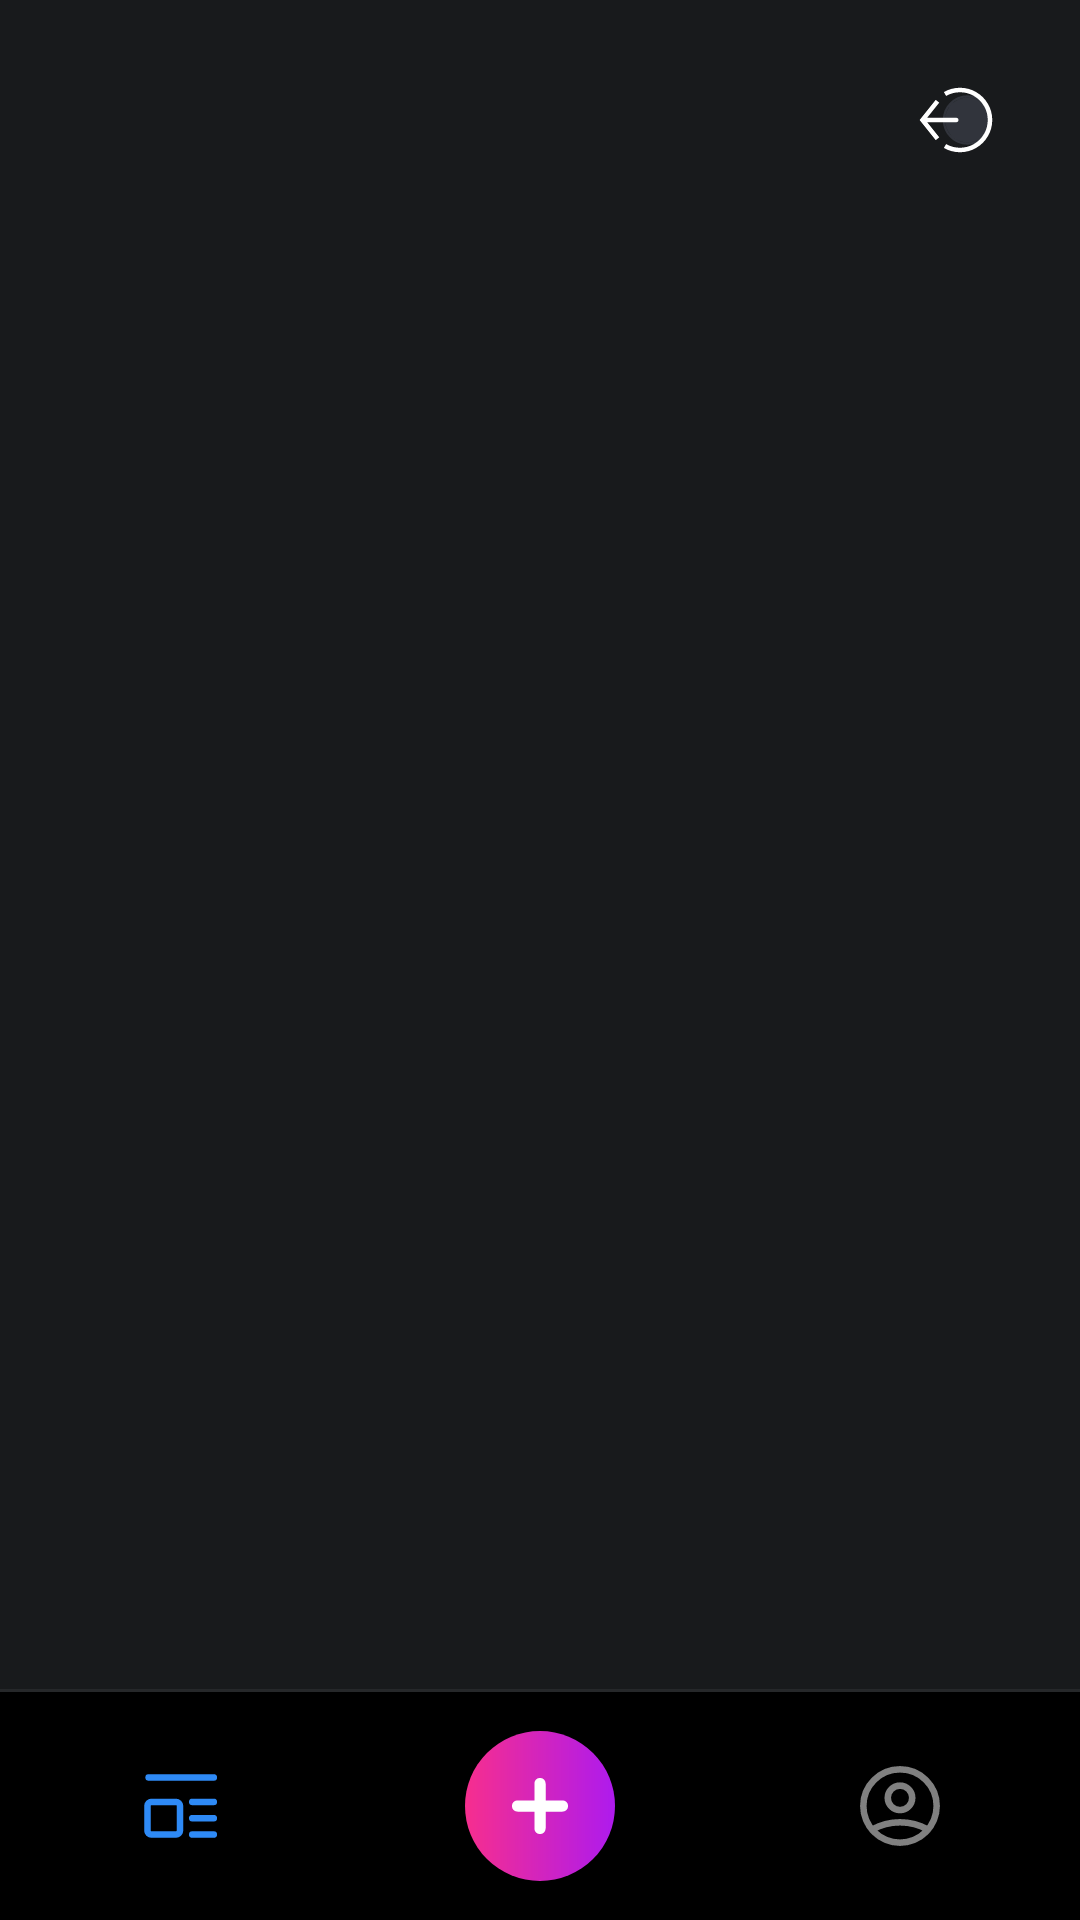

Named icons in this screenshot (1080w x 1920h) and their bounding boxes, rect(x1, y1, x2, y2):
Create Post: rect(465, 1731, 615, 1881)
